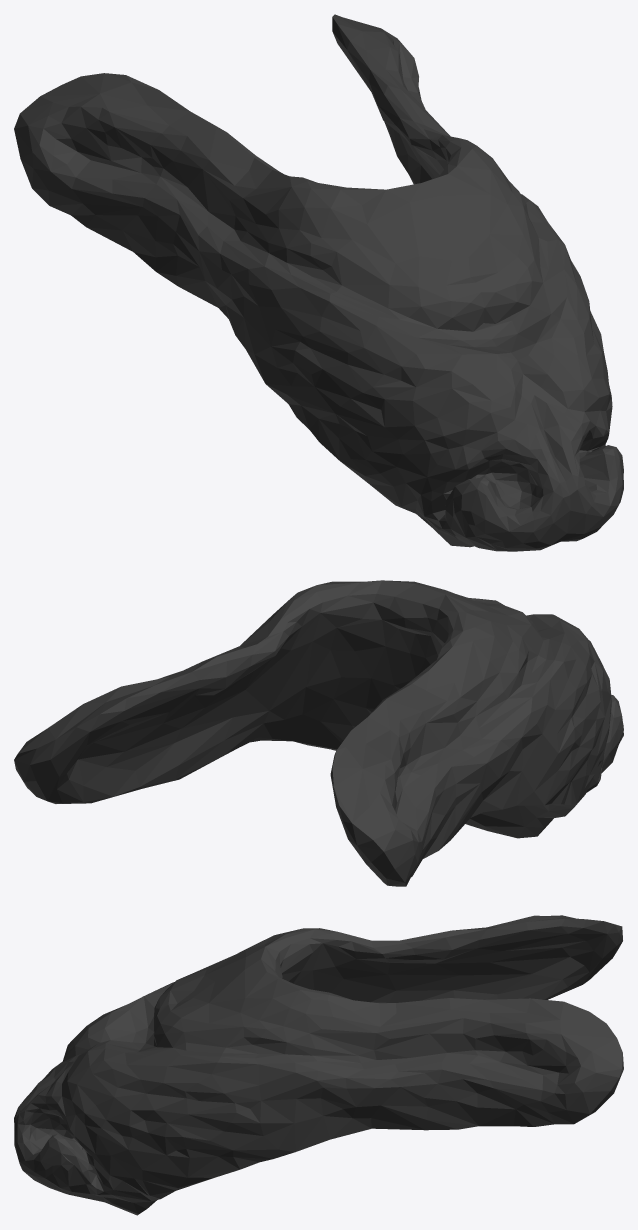
File: details_nose_mouth_area.glb
3 views of the same model, one above another, from view 1: azimuth 30°, elevation 25°; view 2: azimuth 150°, elevation 25°; view 3: azimuth 270°, elevation 25° (orthographic). The views are drawn at different scales.
Parts seen in each view (by area): view 1: details_nose_mouth_area; view 2: details_nose_mouth_area; view 3: details_nose_mouth_area.
Boxes of the visible parts, box(x1,y1,x2,y2) form: details_nose_mouth_area: box(14, 14, 623, 551); details_nose_mouth_area: box(14, 580, 623, 886); details_nose_mouth_area: box(14, 915, 623, 1215).
Bounding box in the file's own units: 0.00183 × 0.00138 × 0.00311.
Materials: 1 (1 with a texture image).
